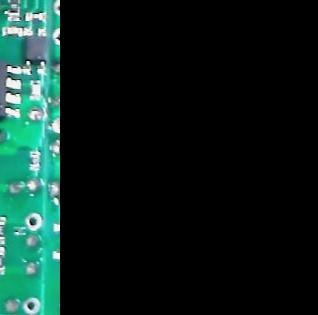chip-capacitor: (2, 24, 23, 36), (29, 78, 41, 99)
chip-resistor: (5, 0, 22, 21), (25, 10, 48, 23), (29, 148, 42, 171)
ic: (24, 25, 48, 76)
